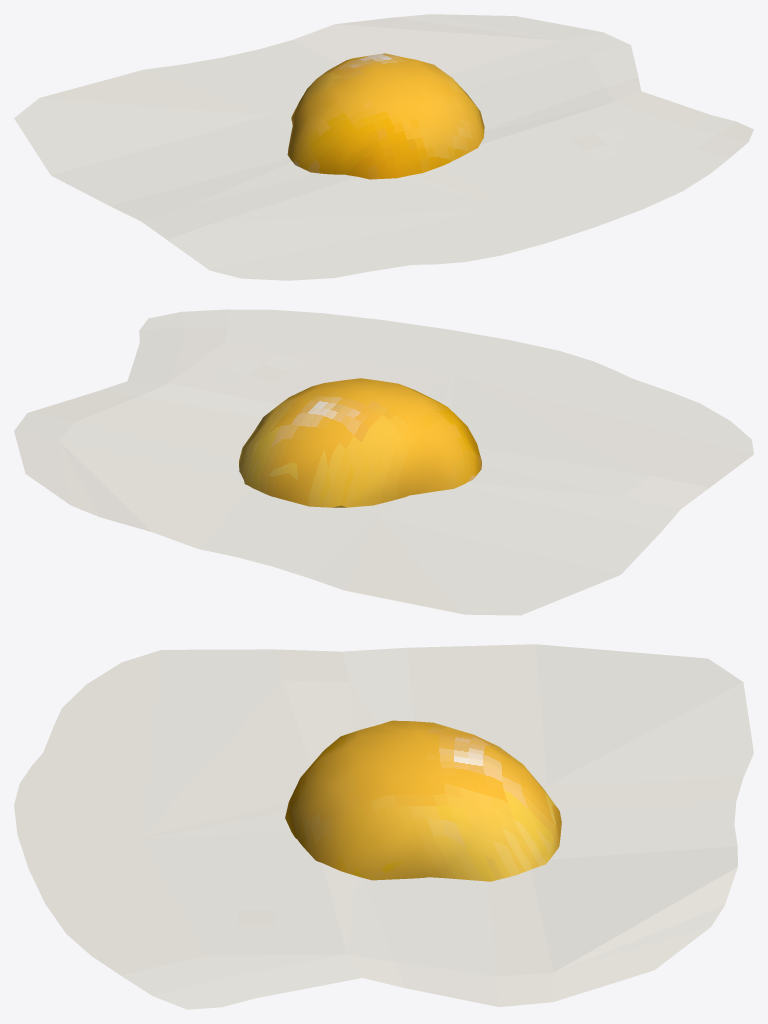
File: FriedEgg.fbx
3 views of the same model, one above another, from view 1: azimuth 30°, elevation 25°; view 2: azimuth 150°, elevation 25°; view 3: azimuth 270°, elevation 25° (orthographic). The views are drawn at different scales.
Visible parts, largest first — view 1: FriedEgg; view 2: FriedEgg; view 3: FriedEgg.
Boxes of the visible parts, left/top/right/bottom form: FriedEgg: left=14, top=14, right=753, bottom=280; FriedEgg: left=14, top=309, right=753, bottom=615; FriedEgg: left=14, top=644, right=753, bottom=1009.
Bounding box in the file's own units: 31.61 × 4.26 × 26.75.
